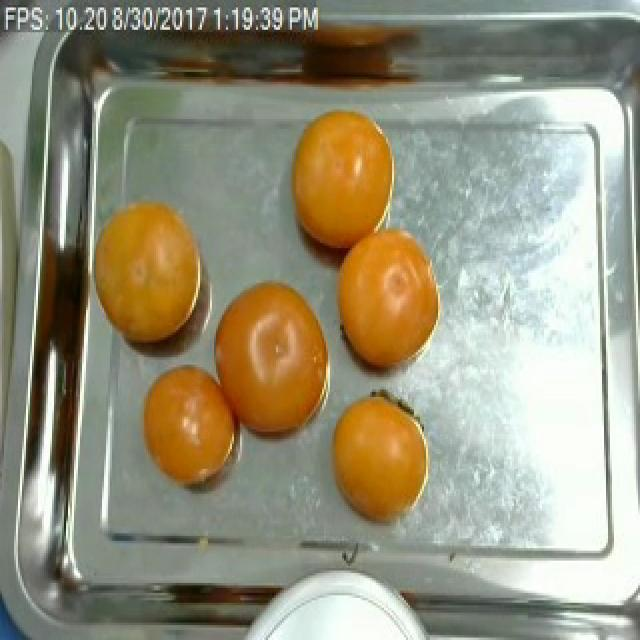Fruit: (200, 265, 338, 469), (328, 208, 448, 390), (88, 186, 214, 357), (278, 99, 402, 263), (314, 382, 440, 541), (130, 349, 254, 504)
